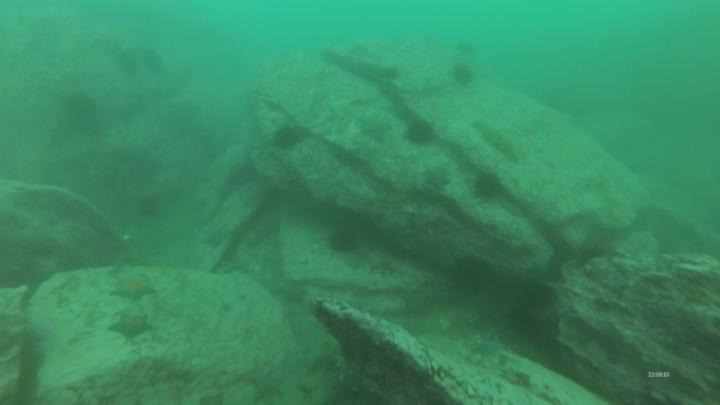echinus: (405, 121, 435, 147), (527, 283, 554, 311), (476, 173, 503, 199), (329, 227, 356, 250), (272, 130, 299, 152), (452, 63, 472, 84)
holothurian: (474, 122, 520, 162)
starfish: (112, 272, 156, 301), (114, 310, 150, 339), (363, 117, 392, 143), (475, 337, 506, 359), (422, 167, 450, 190)
